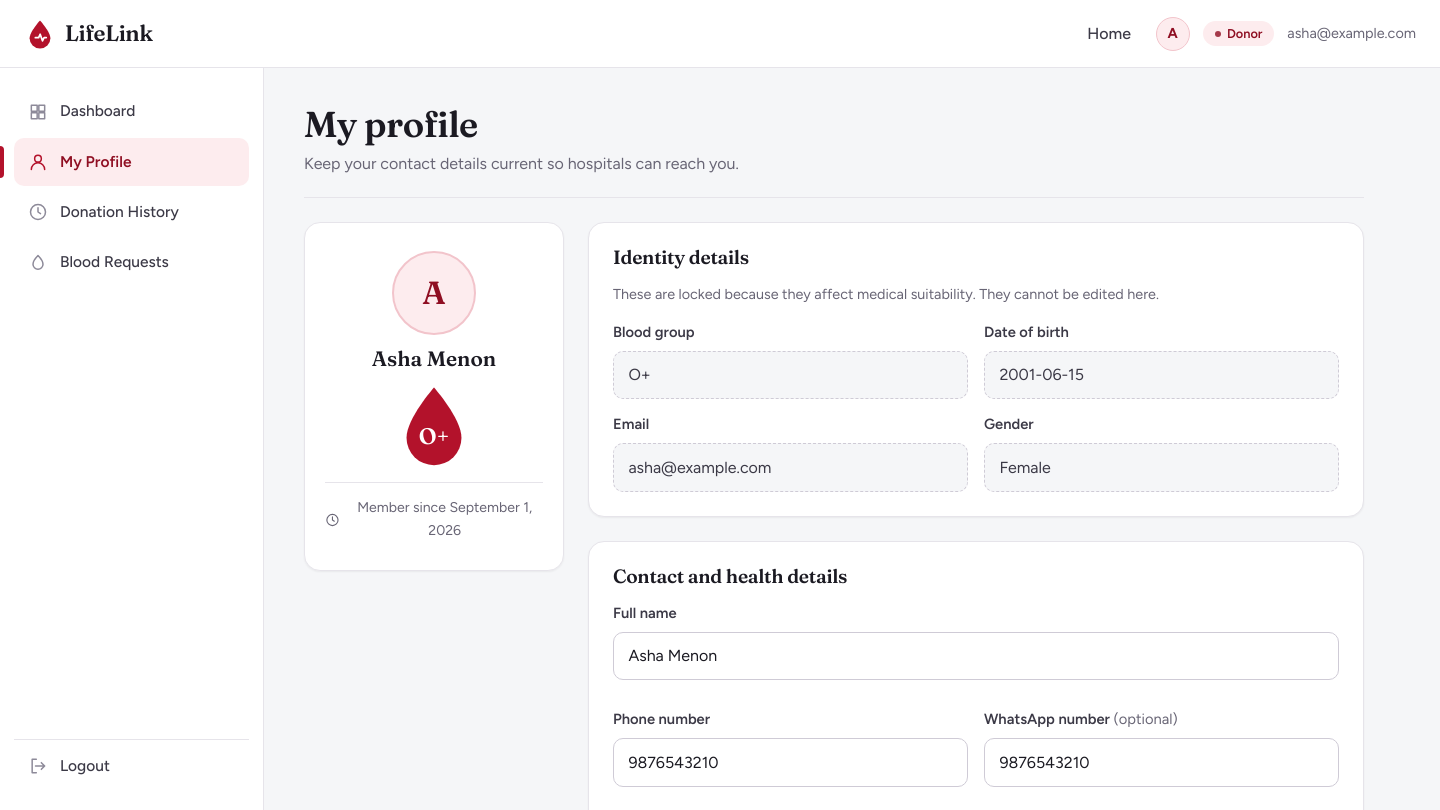
Test: donor profile › saves only editable fields and shows confirmation
Expected: the heading "My profile" is shown, [304, 102, 478, 146]
Replace the text in the field labelled "Phone number" with "98000 11122" at (790, 762), box [613, 738, 968, 787]
(page scrolled)
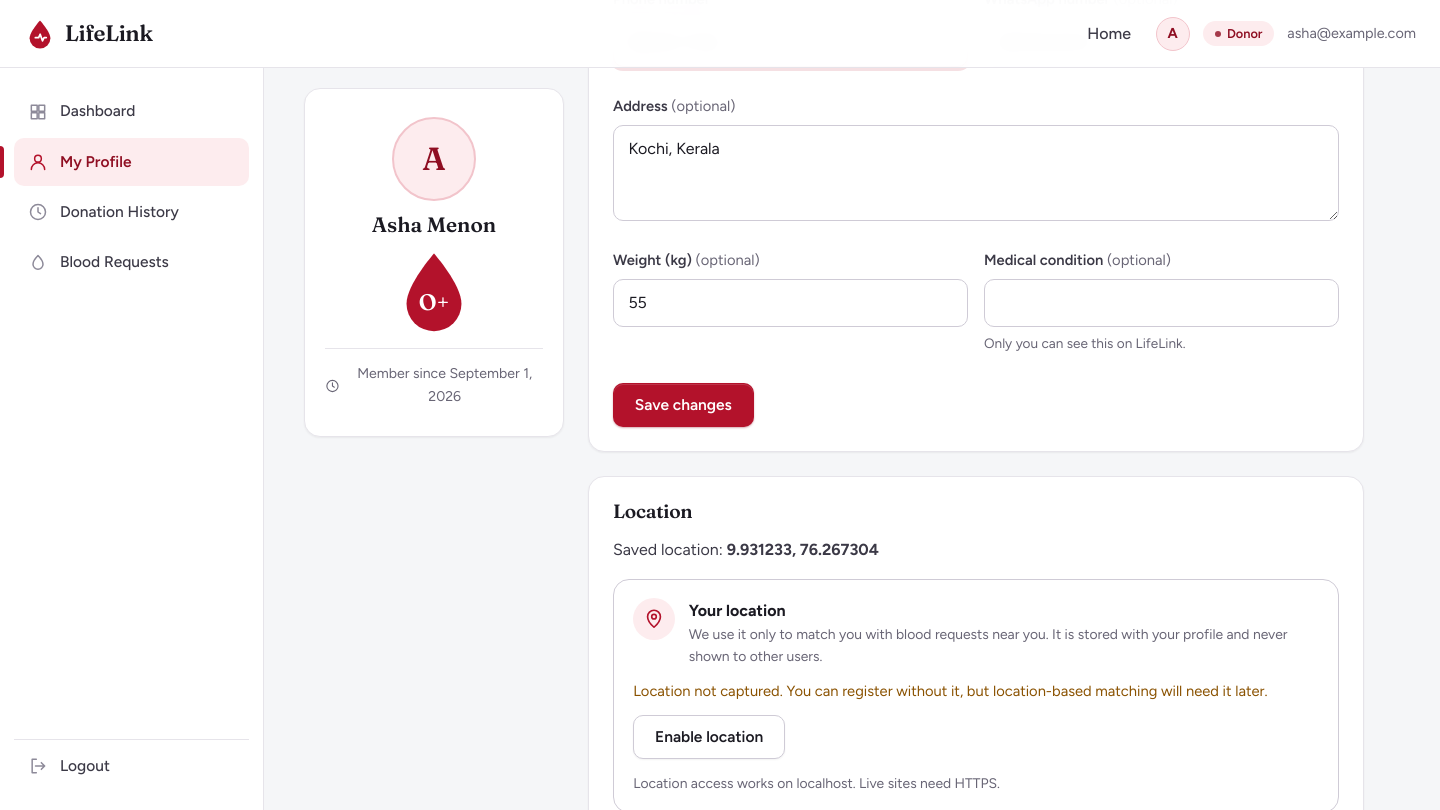
Click the button "Save changes" at (683, 405), box [613, 383, 754, 427]
(page scrolled)
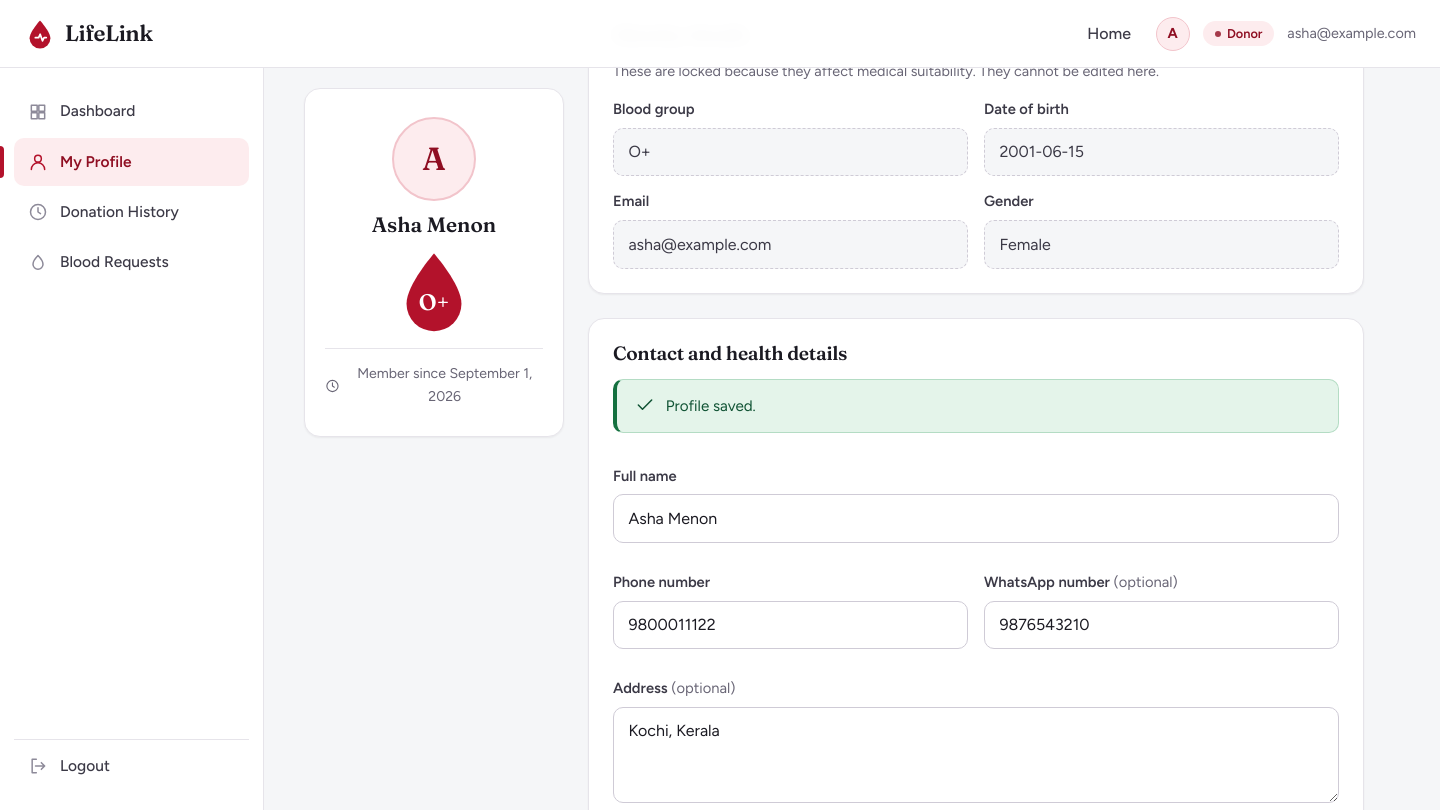
Result: the text "Profile saved." is shown at [666, 397, 756, 415]
